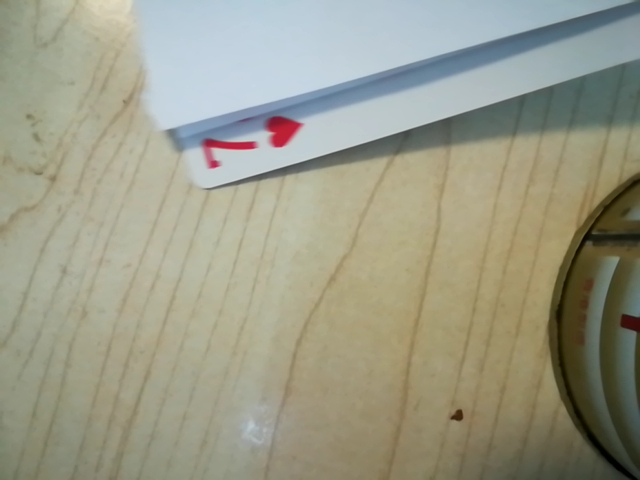hx 7: (183, 111, 306, 178)
